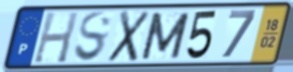5: (185, 10, 218, 62)
7: (219, 8, 260, 61)
H: (31, 10, 81, 65)
M: (138, 11, 192, 61)
S: (72, 10, 114, 65)
X: (105, 9, 152, 65)
